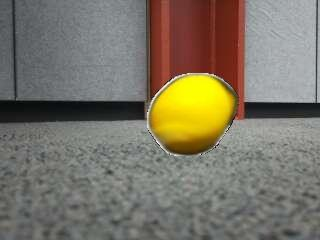lemon: (150, 75, 236, 154)
